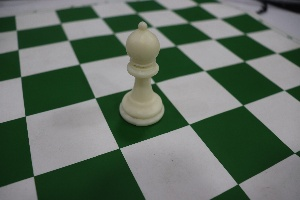white_bishop: (111, 17, 172, 132)
